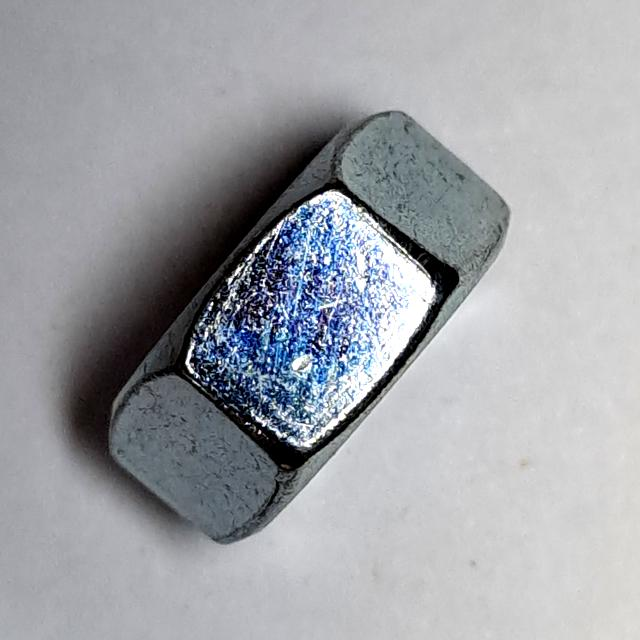Side_Excellent: (96, 92, 527, 566)
